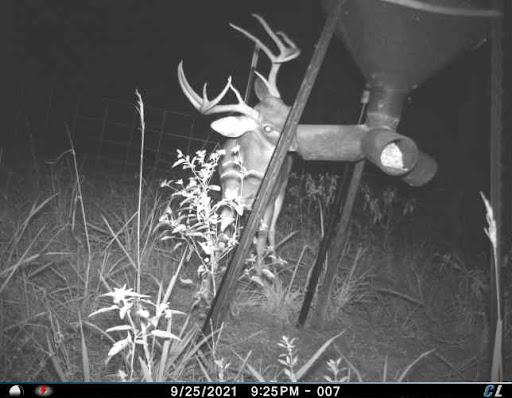Deer: (174, 6, 300, 300)
